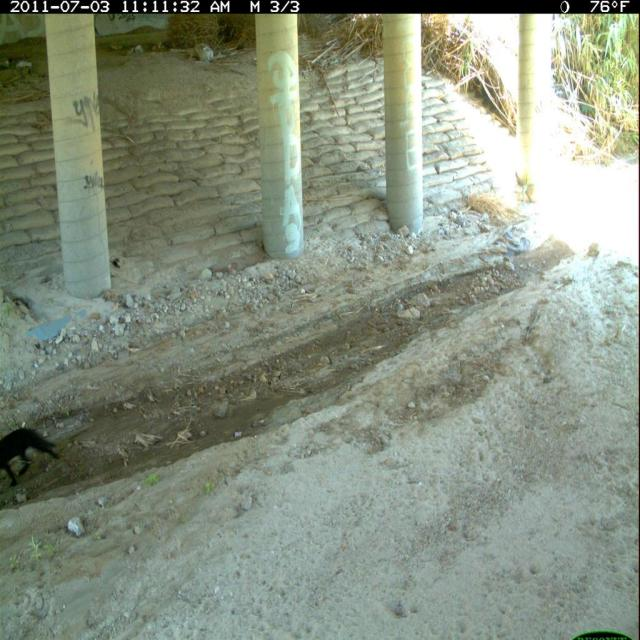cat: (1, 418, 65, 494)
